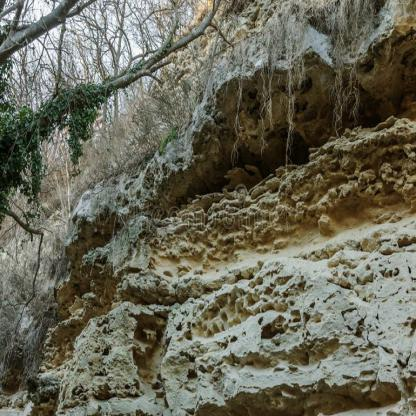Sedimentary_Limestone: (162, 297, 400, 415), (67, 320, 145, 400), (346, 170, 400, 206), (319, 217, 338, 235)
